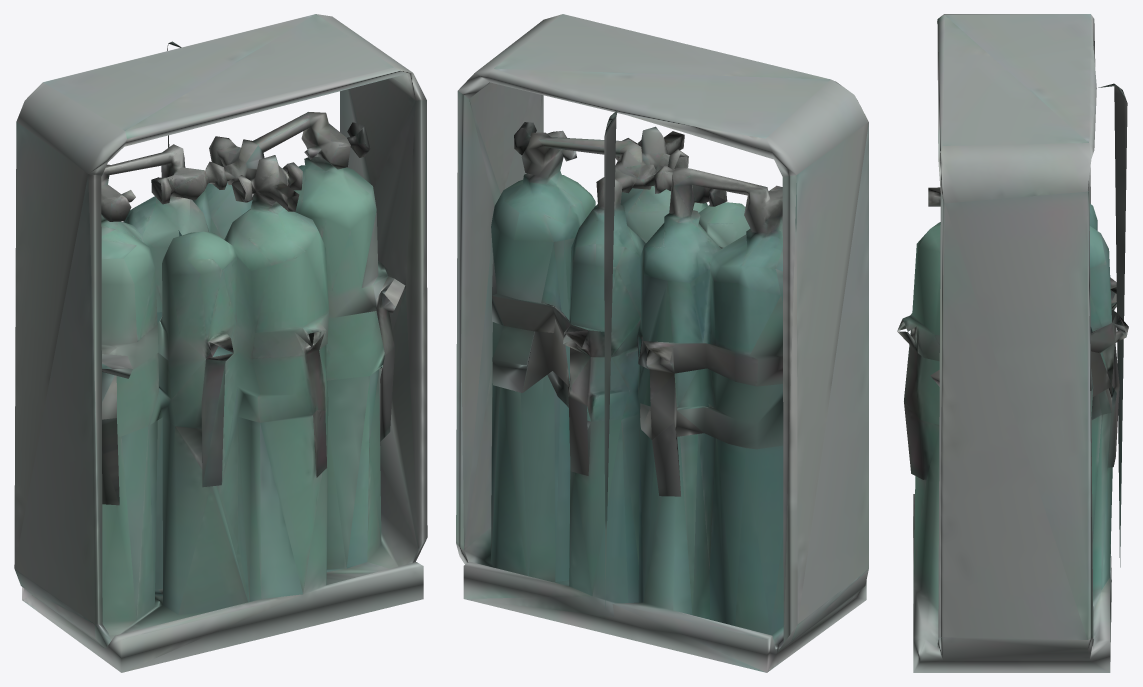
3 renders of one model, left to right at view 1: azimuth 30°, elevation 25°; view 2: azimuth 150°, elevation 25°; view 3: azimuth 270°, elevation 25°, orthographic.
Size of the model in its own units: 1.29 by 1.9 by 0.7646.
Materials: 1 (1 with a texture image).
